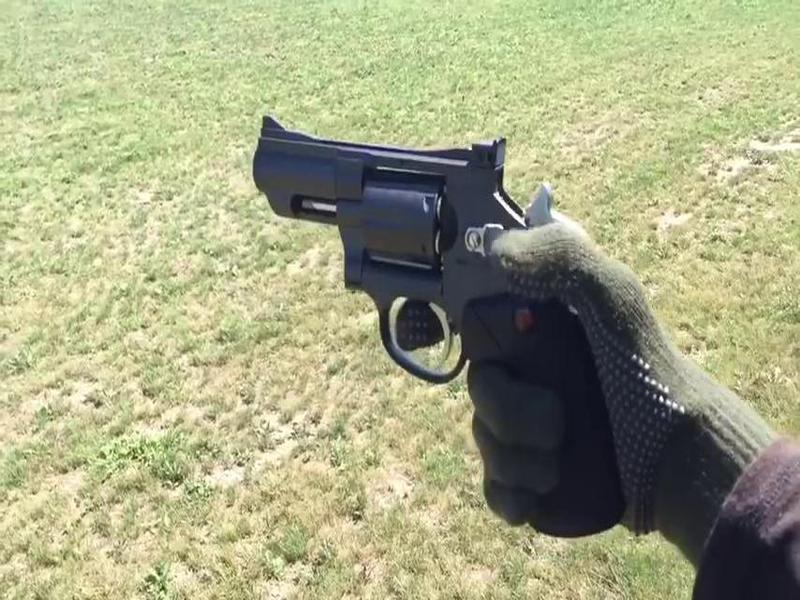Revolver: (233, 100, 641, 543)
